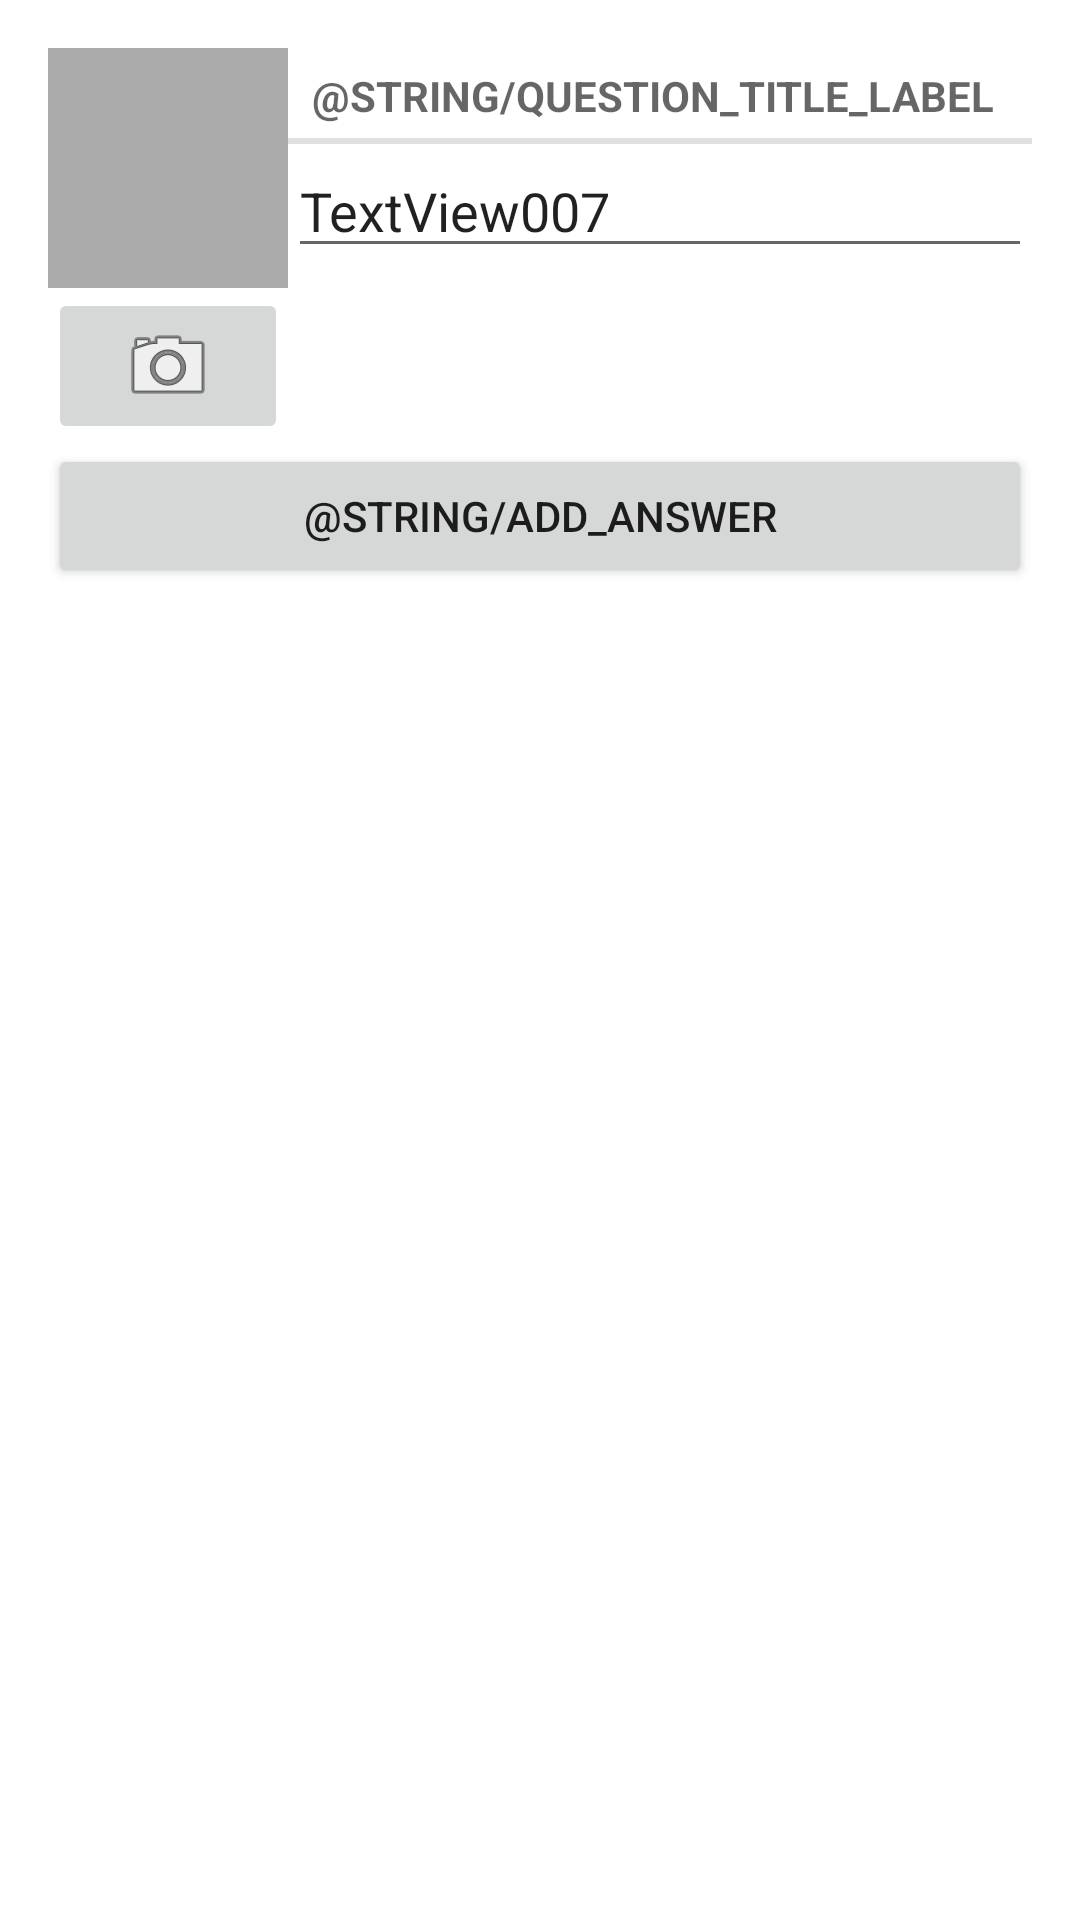

Icons on this 1080w x 1920h Android screen, each with its box as (x1, y1, x2, y2):
camera: (60, 306, 276, 426)
